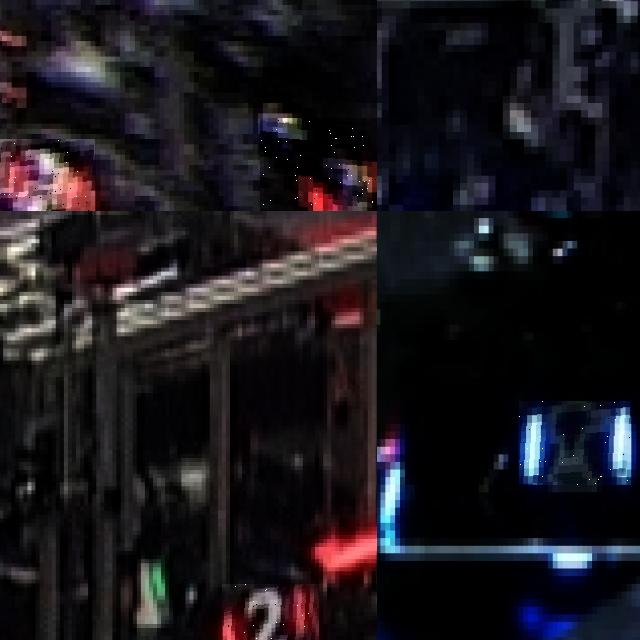Bs: (519, 401, 631, 485)
R2: (260, 118, 377, 211), (0, 139, 95, 211), (222, 583, 319, 640)
